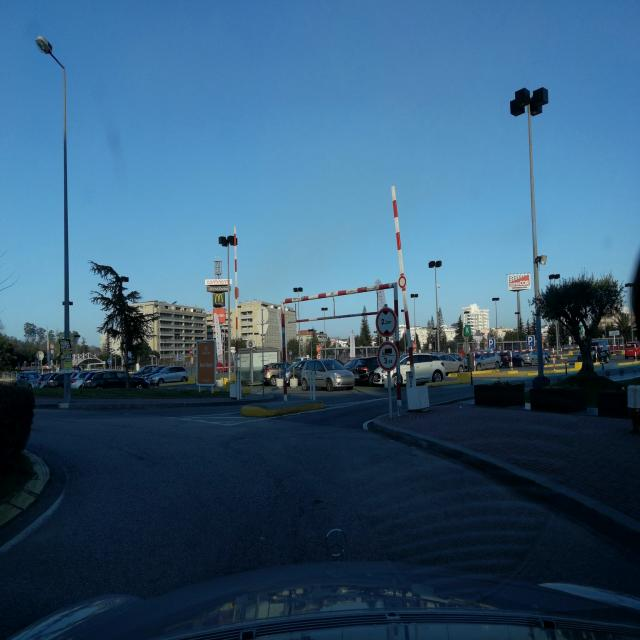car: (390, 352, 446, 386), (300, 358, 356, 392), (84, 370, 149, 390), (346, 356, 382, 386), (148, 365, 189, 385), (466, 350, 502, 370), (432, 353, 464, 375), (262, 361, 293, 383), (70, 370, 96, 389), (590, 340, 610, 363), (500, 350, 524, 368), (15, 371, 41, 387), (624, 342, 640, 359)
